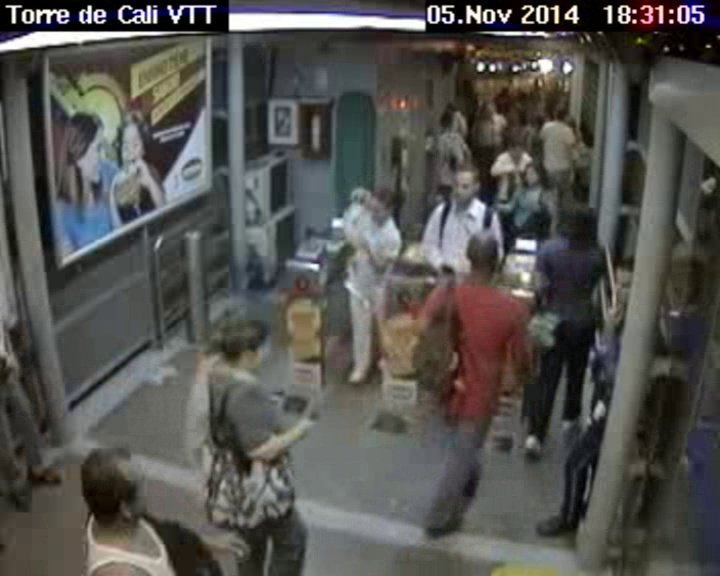person: (78, 439, 150, 528), (212, 315, 266, 367), (603, 248, 649, 307), (459, 225, 498, 278), (353, 188, 402, 226), (561, 206, 604, 244), (443, 167, 482, 200), (503, 135, 540, 165), (432, 106, 453, 132), (524, 160, 542, 190), (511, 105, 529, 123), (550, 107, 567, 125), (483, 102, 495, 120)
